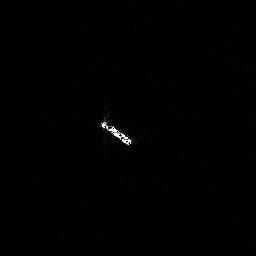ship: (99, 118, 133, 146)
